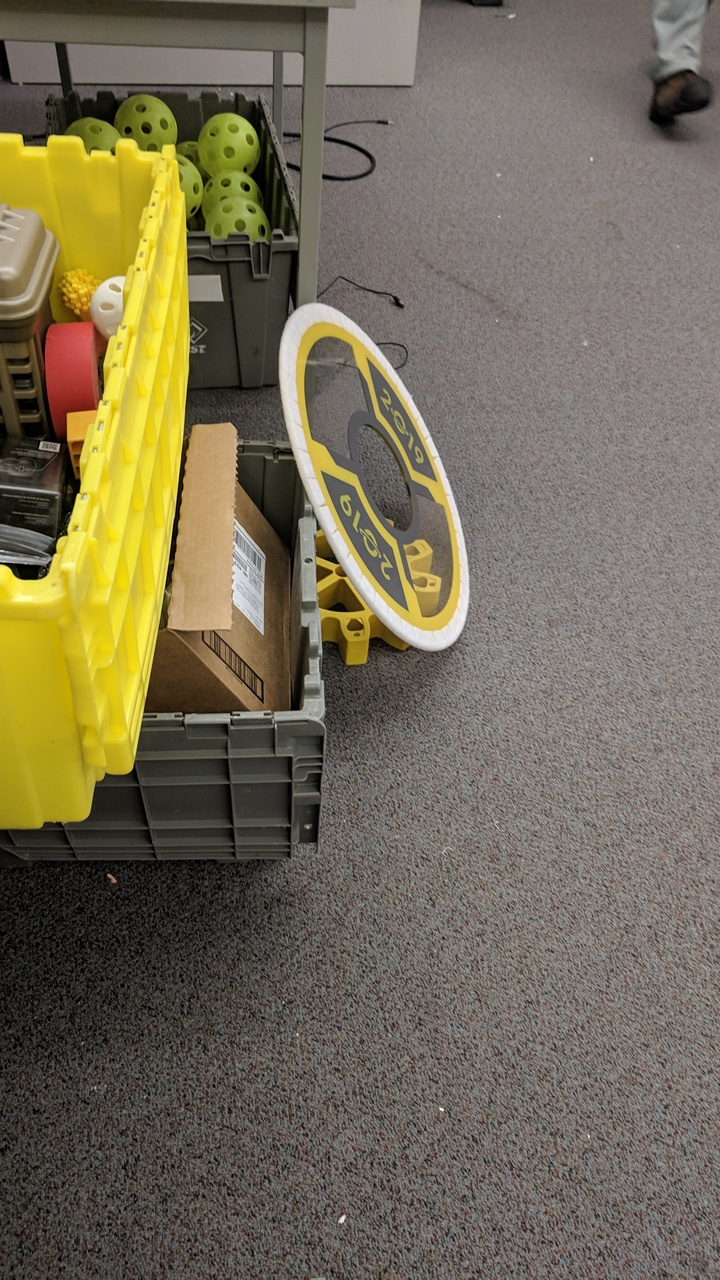hatch_panel: (265, 303, 507, 664)
